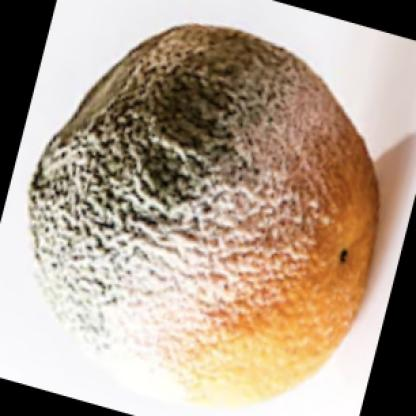rotten: (29, 22, 379, 409)
